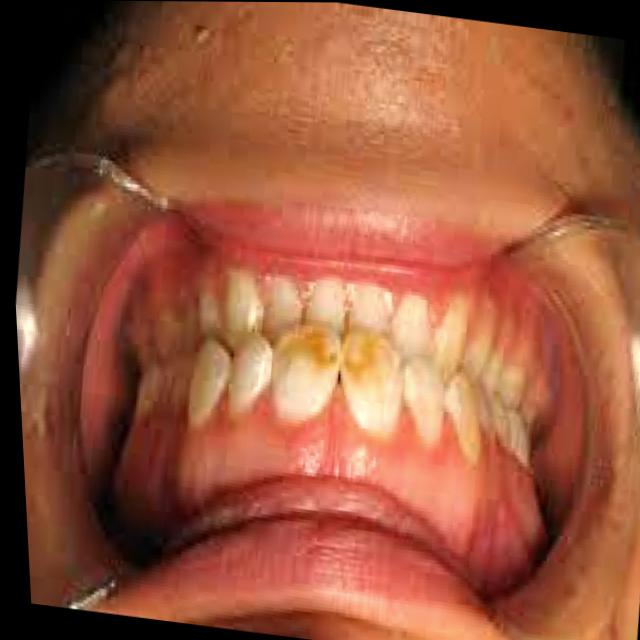tooth-discoloration: (342, 332, 399, 403), (275, 328, 340, 375), (446, 376, 481, 463)
